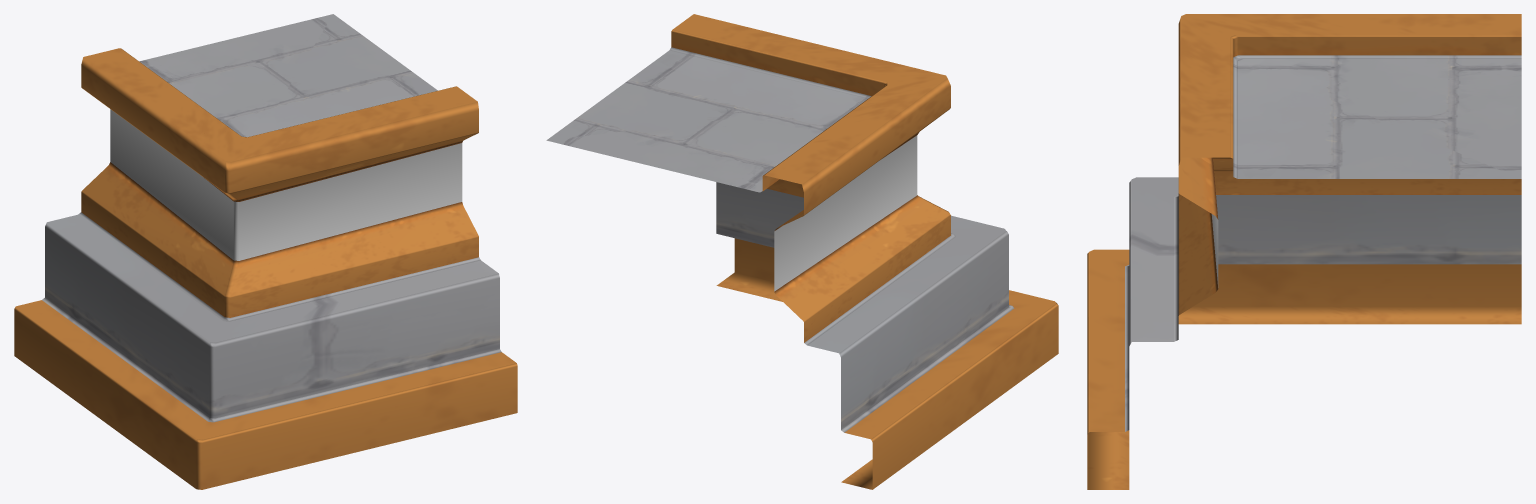
The model's file is SM_LowGround_Corner.fbx.
3 renders of one model, left to right at view 1: azimuth 30°, elevation 25°; view 2: azimuth 150°, elevation 25°; view 3: azimuth 270°, elevation 25°, orthographic. The views are drawn at different scales.
Visible parts, largest first — view 1: SM_LowGround_Corner; view 2: SM_LowGround_Corner; view 3: SM_LowGround_Corner.
Boxes of the visible parts, x1=… form: SM_LowGround_Corner: x1=14, y1=14, x2=517, y2=489; SM_LowGround_Corner: x1=546, y1=14, x2=1058, y2=489; SM_LowGround_Corner: x1=1087, y1=14, x2=1521, y2=489.
Size of the model in its own units: 1.27 by 1.07 by 1.27.
